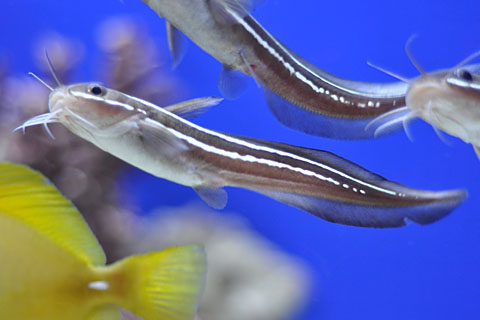gonzui: (40, 77, 460, 229)
